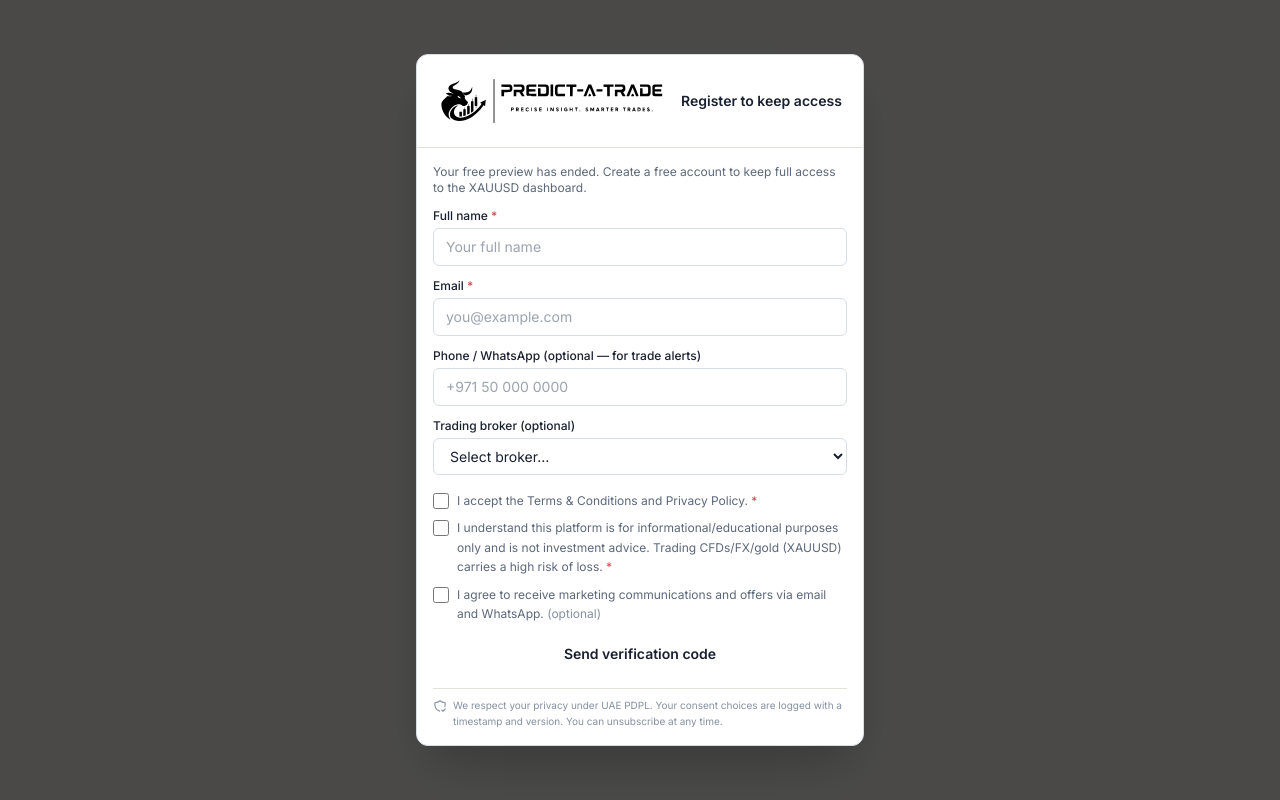
Test: RegistrationModal › blocks submit until required consents are checked
The image size is (1280, 800).
Fill required non-consent fields so native form validation passes.
Type "Jane Doe" into the field with placeholder "Your full name". click: (640, 247)
box: [433, 228, 847, 266]
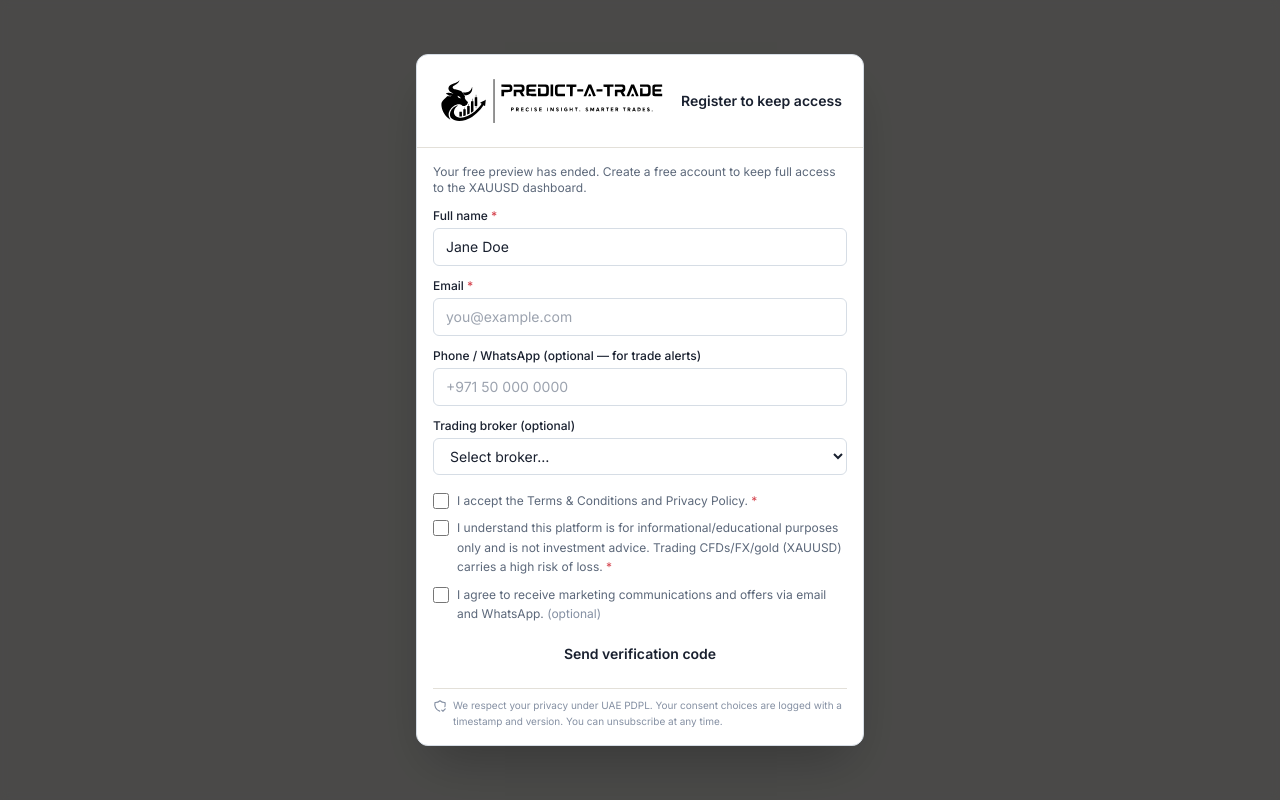
Type "jane@test.com" into the field with placeholder "you@example.com". click: (640, 317)
box: [433, 298, 847, 336]
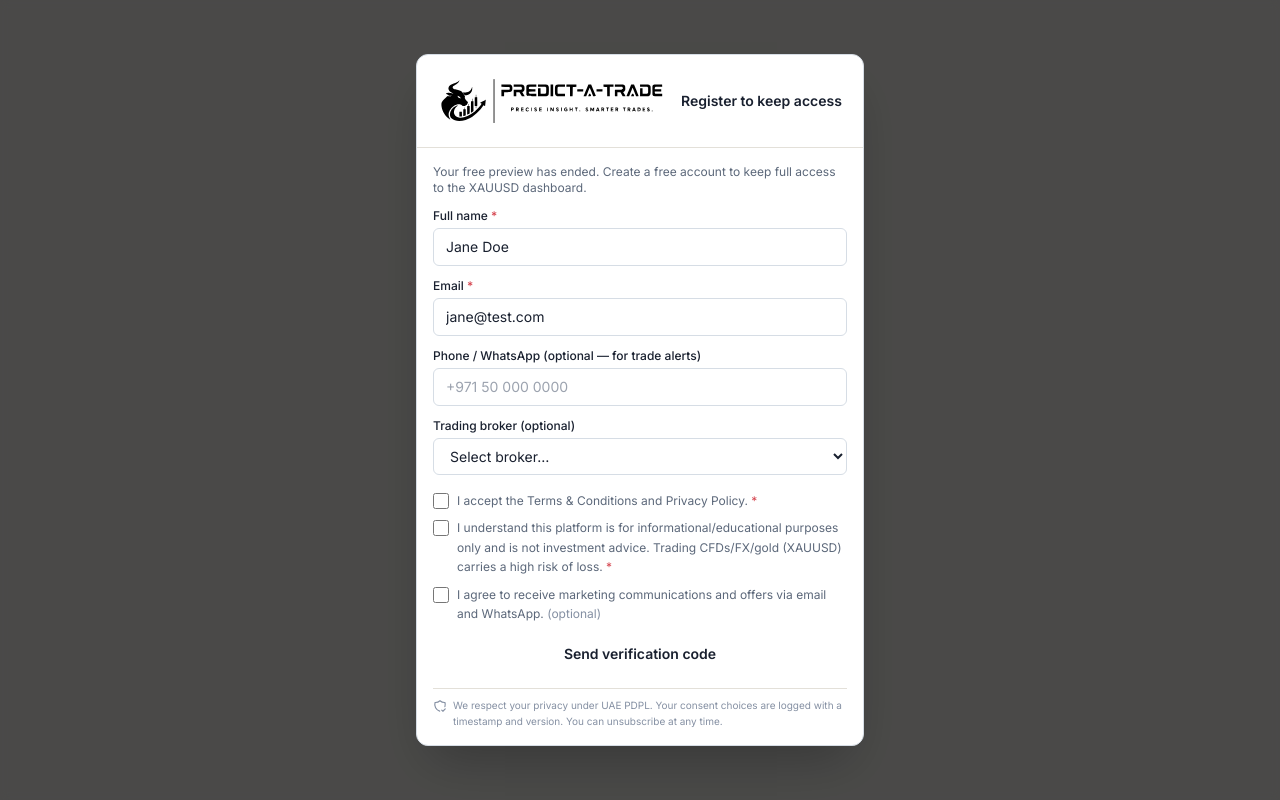
Click the button "Send verification code". click: (640, 654)
box: [433, 636, 847, 672]
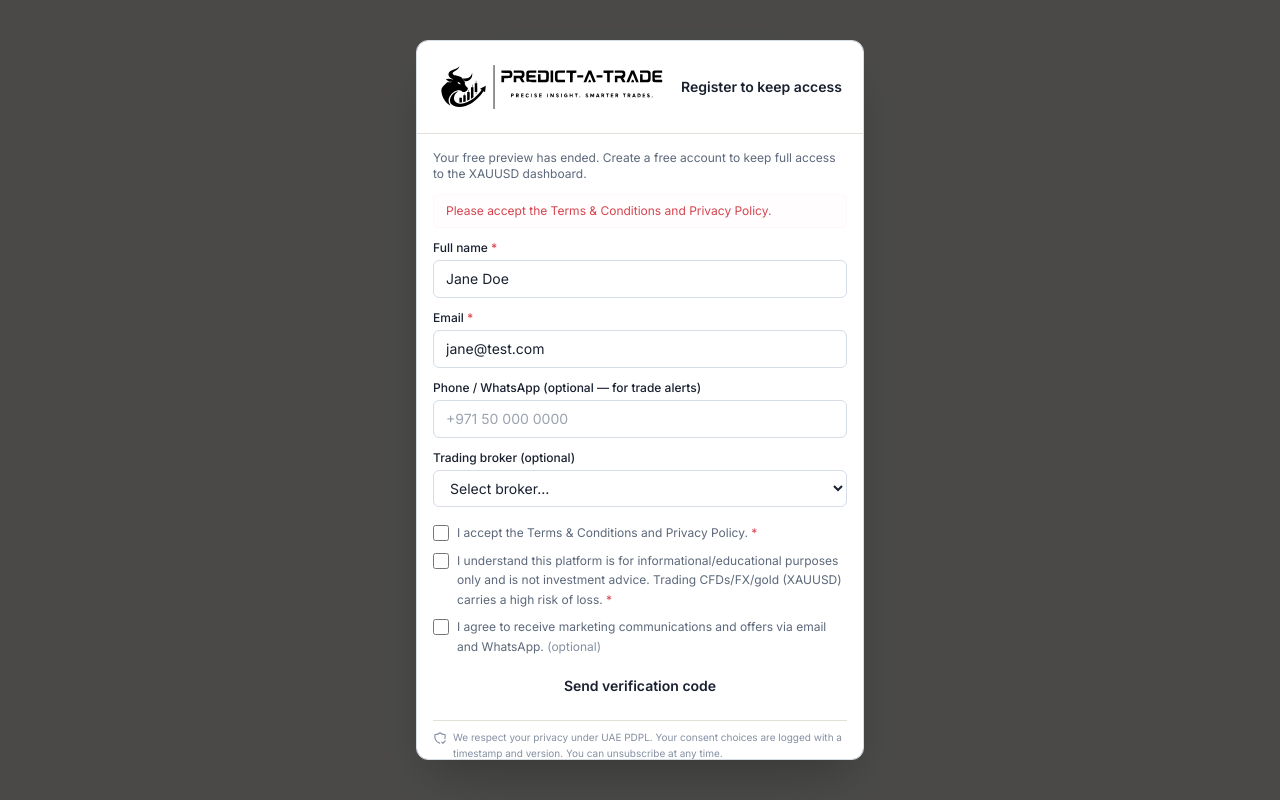
Expected: the text "Please accept the Terms & Conditions and Privacy Policy." is shown, [433, 194, 847, 228]
